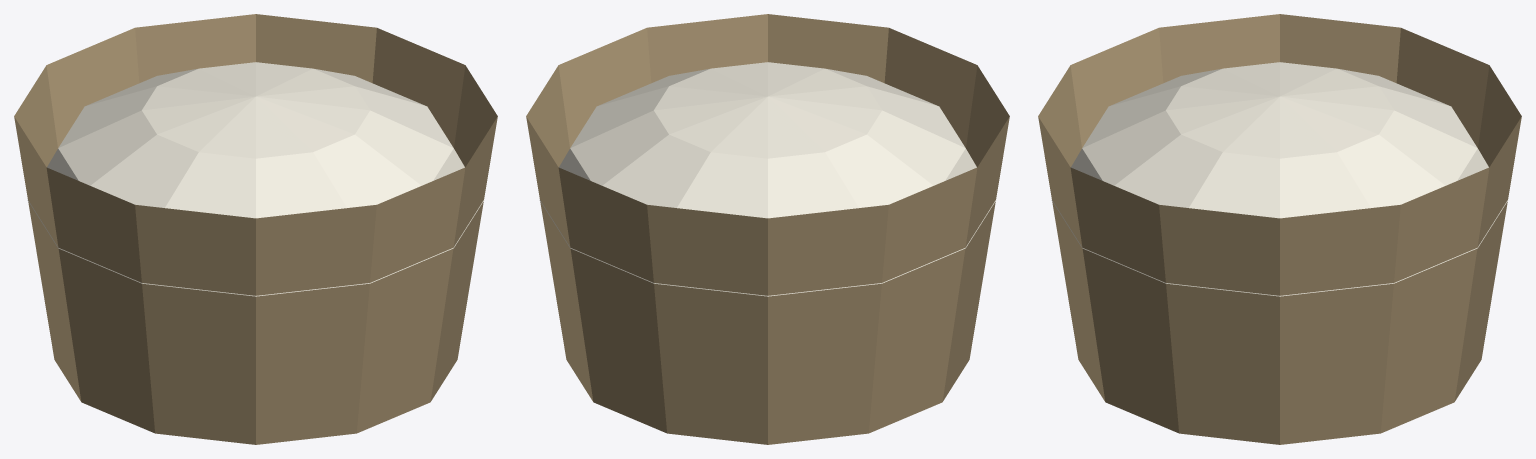
Rendered from rice_basket_full.glb.
3 renders of one model, left to right at view 1: azimuth 30°, elevation 25°; view 2: azimuth 150°, elevation 25°; view 3: azimuth 270°, elevation 25°, orthographic.
Parts seen in each view (by area): view 1: rice_basket_full, rice_basket_full_rice; view 2: rice_basket_full, rice_basket_full_rice; view 3: rice_basket_full, rice_basket_full_rice.
Part boxes in pixels (<box>): rice_basket_full: <box>14,14,497,444</box>; rice_basket_full_rice: <box>27,62,484,296</box>; rice_basket_full: <box>526,14,1009,444</box>; rice_basket_full_rice: <box>539,62,996,296</box>; rice_basket_full: <box>1038,14,1521,444</box>; rice_basket_full_rice: <box>1051,62,1508,296</box>.
Size of the model in its own units: 0.72 by 0.4323 by 0.72.
